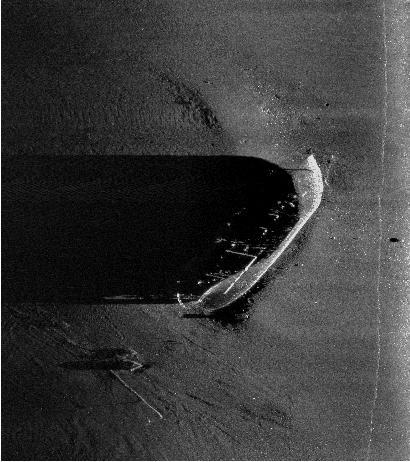ship: (174, 151, 326, 318)
